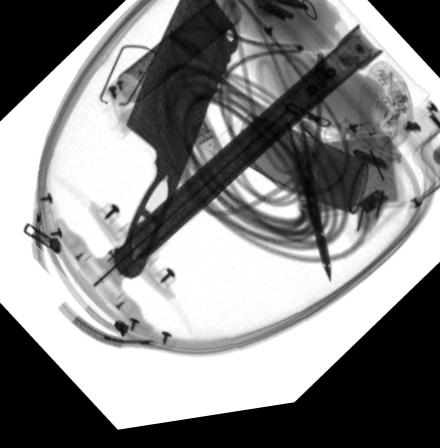Knife: (109, 0, 240, 283)
Powerbank: (290, 143, 406, 231)
Scissors: (239, 98, 343, 297)
